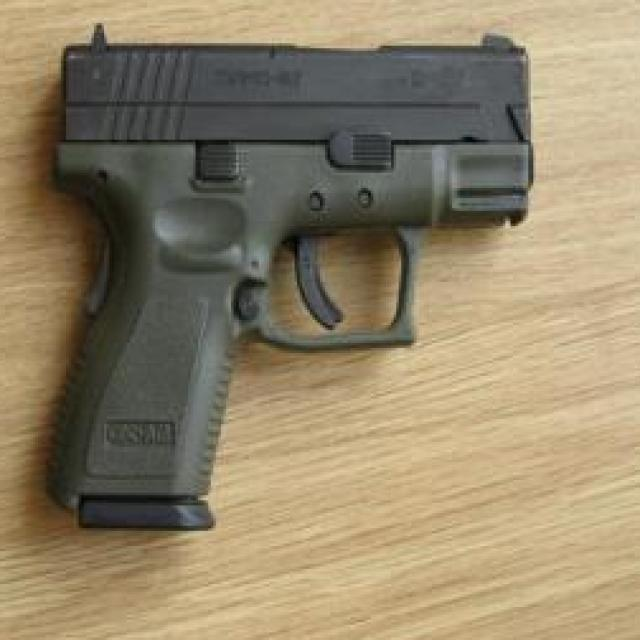pistol: (42, 23, 536, 536)
